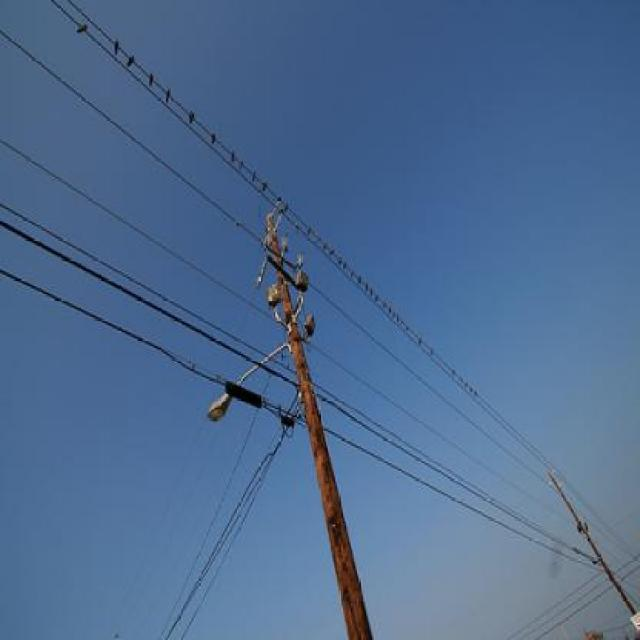pole: (252, 180, 408, 640)
